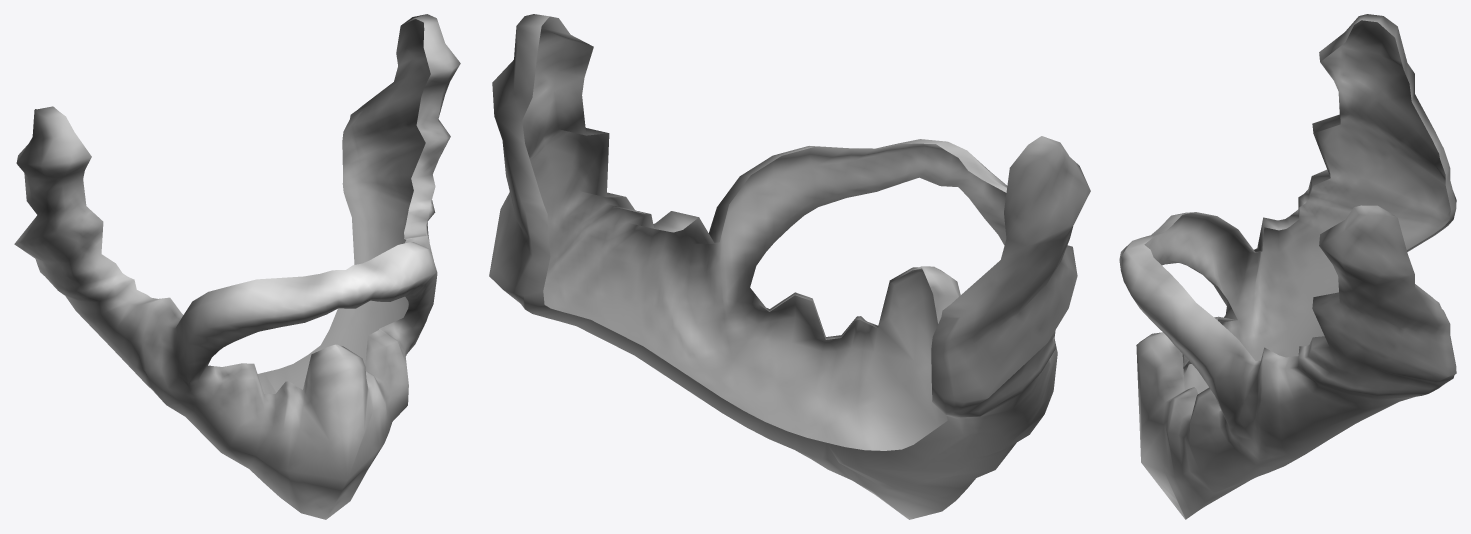
File: hair_beard.glb
3 renders of one model, left to right at view 1: azimuth 30°, elevation 25°; view 2: azimuth 150°, elevation 25°; view 3: azimuth 270°, elevation 25°, orthographic. The views are drawn at different scales.
Parts seen in each view (by area): view 1: Hair_Beard; view 2: Hair_Beard; view 3: Hair_Beard.
Part boxes in pixels (bbox=[...]): Hair_Beard: bbox=[14, 14, 460, 519]; Hair_Beard: bbox=[489, 14, 1090, 519]; Hair_Beard: bbox=[1119, 14, 1456, 519].
Bounding box in the file's own units: 0.1615 × 0.1398 × 0.1049.
1 material, 1 textured.
